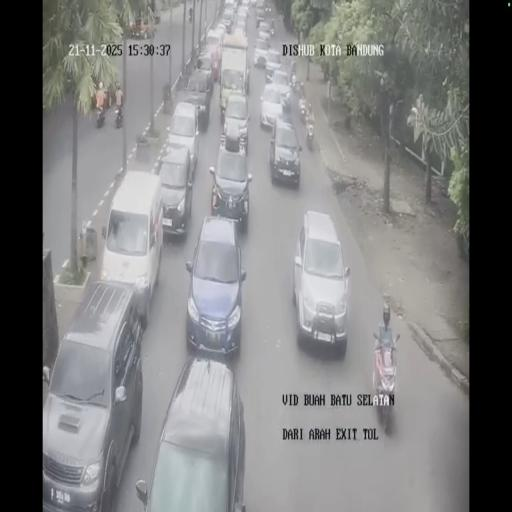car: (42, 282, 144, 508), (100, 172, 164, 324), (185, 216, 246, 356), (292, 210, 350, 352), (209, 141, 253, 232), (156, 146, 194, 237), (268, 112, 302, 188), (182, 67, 214, 129), (221, 91, 250, 149), (259, 81, 286, 131), (203, 28, 226, 77), (254, 42, 268, 68), (220, 5, 234, 31), (266, 47, 282, 67), (257, 21, 271, 43), (235, 12, 248, 34), (255, 4, 266, 26), (241, 0, 251, 12)
motorcycle: (300, 97, 314, 149), (289, 60, 302, 96), (114, 100, 123, 128), (96, 108, 105, 128), (269, 22, 275, 37), (265, 5, 271, 17)
